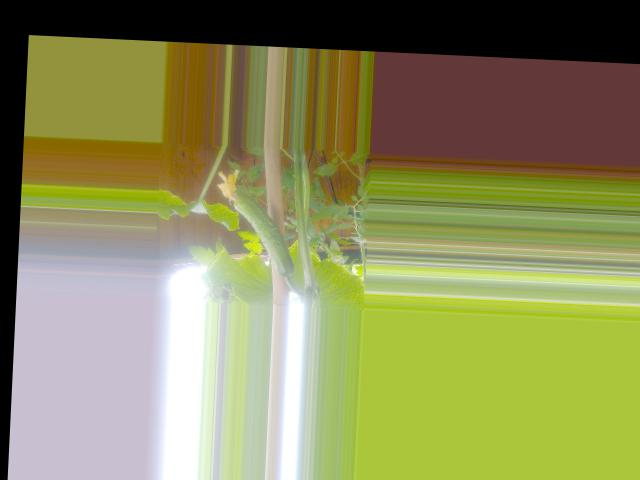cucumber: (212, 167, 297, 276)
